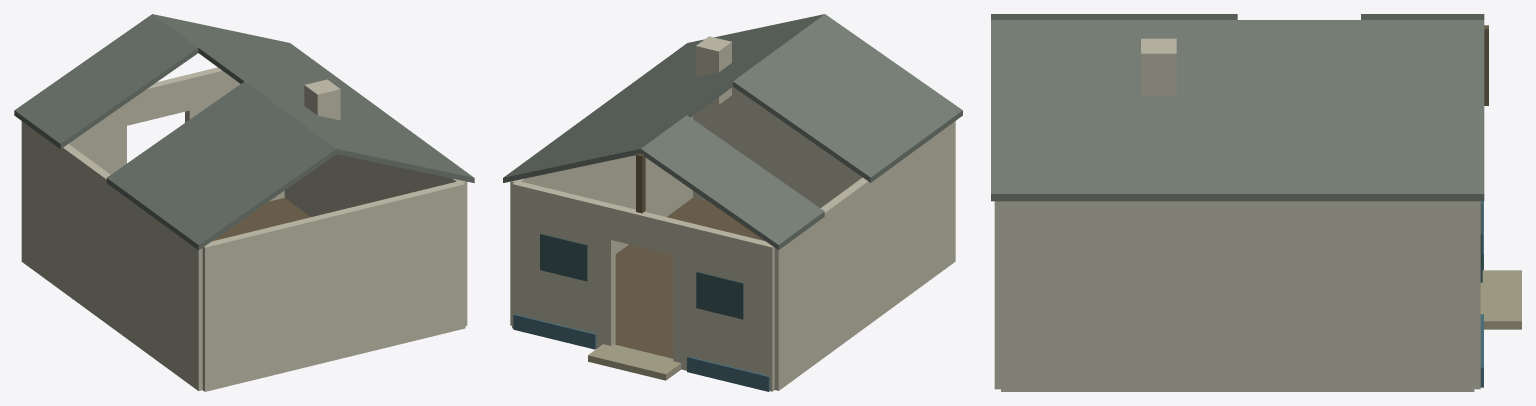
File: ua_abandoned_house.obj
The picture shows the model from 3 angles, left to right: view 1: azimuth 30°, elevation 25°; view 2: azimuth 150°, elevation 25°; view 3: azimuth 270°, elevation 25°; orthographic projection. The views are drawn at different scales.
Visible parts, largest first — view 1: ua_abandoned_house; view 2: ua_abandoned_house; view 3: ua_abandoned_house.
Part boxes in pixels (bbox=[...]): ua_abandoned_house: bbox=[14, 14, 474, 391]; ua_abandoned_house: bbox=[503, 14, 962, 391]; ua_abandoned_house: bbox=[991, 14, 1521, 391].
Bounding box in the file's own units: 5.4 × 4.05 × 6.72.
